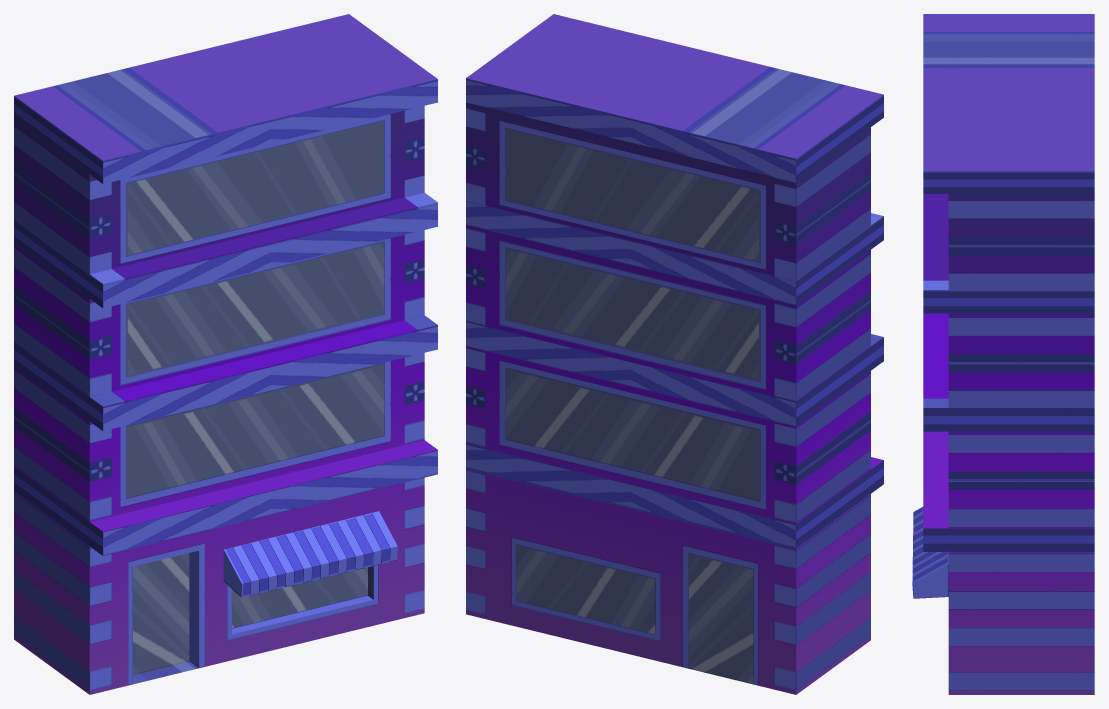
File: builq.fbx
3 views of the same model, side by side, from view 1: azimuth 30°, elevation 25°; view 2: azimuth 150°, elevation 25°; view 3: azimuth 270°, elevation 25° (orthographic). The views are drawn at different scales.
Visible parts, largest first — view 1: polySurface17; view 2: polySurface17; view 3: polySurface17.
Part boxes in pixels (x1=…): polySurface17: x1=14, y1=14, x2=437, y2=694; polySurface17: x1=466, y1=14, x2=883, y2=694; polySurface17: x1=912, y1=14, x2=1094, y2=694.
Size of the model in its own units: 6.39 by 9.92 by 3.13.
2 materials, 2 textured.
